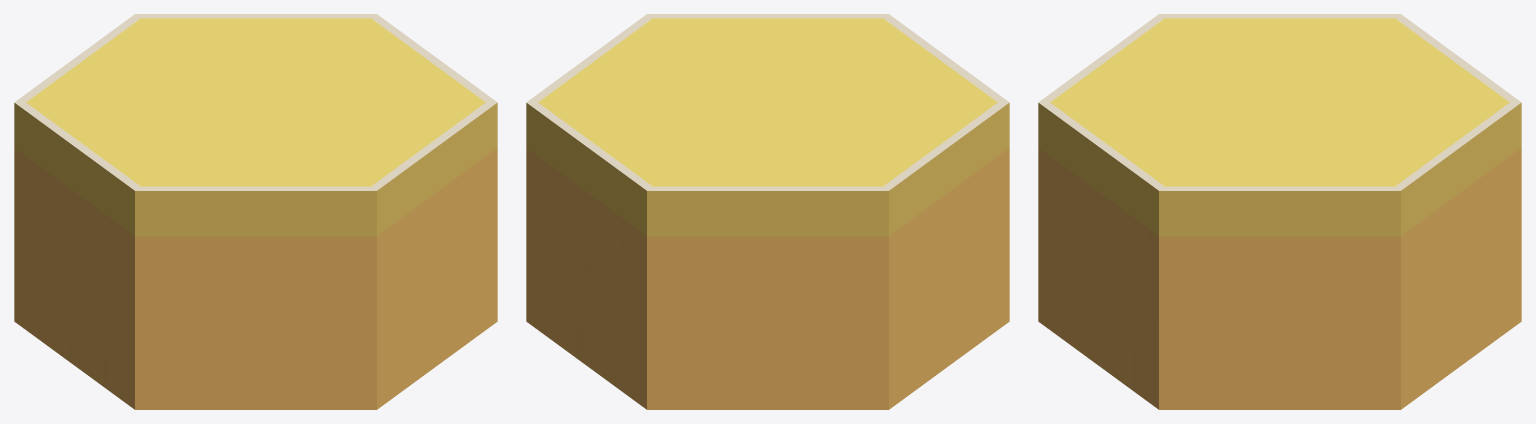
The model's file is M_SandTile.fbx.
3 views of the same model, side by side, from view 1: azimuth 30°, elevation 25°; view 2: azimuth 150°, elevation 25°; view 3: azimuth 270°, elevation 25° (orthographic).
Parts seen in each view (by area): view 1: sand_tile; view 2: sand_tile; view 3: sand_tile.
Part boxes in pixels (x1,y1,x2,y2): sand_tile: [14, 14, 497, 409]; sand_tile: [526, 14, 1009, 409]; sand_tile: [1038, 14, 1521, 409].
Size of the model in its own units: 1.73 by 1 by 2.
Materials: 1 (1 with a texture image).
